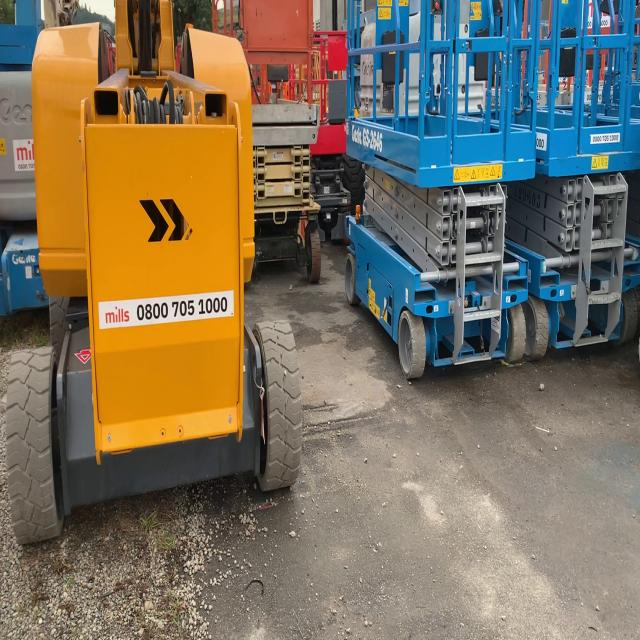Adesivo Longo: (97, 286, 235, 331)
